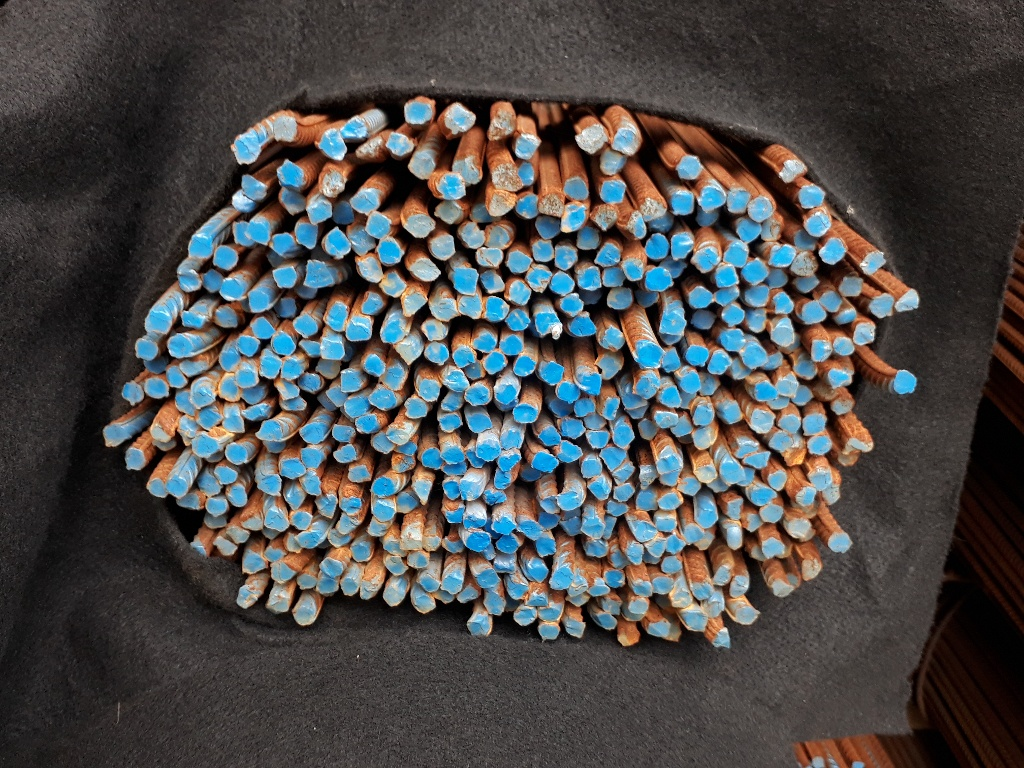dipstick: (304, 260, 333, 288), (319, 131, 346, 161), (576, 126, 606, 153), (396, 336, 423, 365), (319, 167, 345, 197), (232, 136, 260, 163), (446, 105, 474, 132), (405, 214, 435, 239), (277, 160, 304, 186), (619, 211, 645, 238), (326, 229, 351, 257), (190, 433, 218, 458), (562, 203, 586, 232), (771, 318, 795, 347), (280, 188, 306, 214), (819, 238, 845, 264), (454, 267, 479, 294), (404, 101, 432, 125), (490, 111, 514, 139), (437, 174, 466, 197), (351, 190, 381, 212), (381, 271, 406, 297), (409, 153, 435, 178), (357, 136, 384, 160), (597, 352, 621, 379), (351, 227, 374, 255), (324, 303, 347, 331), (435, 202, 463, 225), (410, 259, 439, 281), (377, 239, 402, 264), (614, 130, 639, 155), (869, 293, 894, 318), (367, 213, 393, 237), (431, 236, 457, 260), (591, 204, 617, 228), (380, 320, 407, 343), (431, 298, 458, 321), (466, 411, 494, 433), (567, 314, 595, 336), (368, 389, 397, 410), (242, 175, 266, 200), (359, 256, 383, 281), (460, 223, 484, 248), (454, 159, 479, 183), (727, 188, 751, 213), (646, 267, 671, 291), (748, 196, 772, 221), (638, 343, 663, 367), (751, 409, 775, 434), (212, 247, 238, 270), (534, 312, 560, 335), (495, 165, 521, 188), (642, 196, 665, 222), (700, 187, 726, 210), (464, 386, 491, 408), (487, 192, 514, 214), (422, 320, 450, 341), (425, 341, 449, 365), (607, 286, 631, 310), (806, 212, 830, 236), (246, 222, 271, 245), (307, 201, 332, 224), (516, 135, 541, 158), (554, 246, 577, 271), (677, 155, 700, 180), (197, 409, 223, 431), (536, 620, 562, 642), (646, 233, 668, 259), (671, 234, 693, 260), (558, 419, 585, 440), (273, 116, 296, 140), (220, 279, 244, 302), (168, 334, 192, 357), (602, 152, 626, 175), (601, 180, 625, 203), (578, 266, 601, 290), (725, 243, 748, 267), (743, 261, 767, 284), (792, 252, 815, 276), (861, 252, 885, 275), (895, 288, 918, 312), (188, 236, 213, 258), (507, 250, 532, 272), (506, 309, 531, 331), (536, 217, 561, 239), (799, 186, 824, 208), (801, 301, 826, 323), (742, 346, 767, 368), (342, 118, 368, 139), (145, 313, 171, 334), (538, 194, 564, 215), (780, 162, 806, 183), (555, 443, 582, 463), (481, 271, 504, 294), (458, 295, 481, 318), (541, 362, 564, 385), (624, 598, 647, 621), (597, 244, 620, 267), (635, 377, 658, 400), (177, 271, 201, 293), (301, 422, 325, 444), (242, 551, 266, 573), (486, 226, 510, 248), (564, 177, 588, 199), (692, 249, 716, 271), (724, 244, 748, 266), (771, 245, 795, 267), (745, 285, 769, 307), (894, 369, 916, 393), (214, 308, 239, 329), (272, 267, 297, 288), (296, 223, 317, 248), (403, 398, 428, 419), (475, 248, 500, 269), (602, 567, 627, 588), (529, 266, 550, 291), (344, 398, 370, 418), (279, 458, 305, 478), (271, 564, 297, 584), (437, 413, 464, 432), (135, 338, 158, 360), (259, 474, 282, 496), (446, 369, 469, 391), (508, 281, 531, 303), (532, 240, 555, 262), (576, 227, 598, 250), (810, 340, 833, 362), (145, 377, 169, 398), (247, 290, 268, 314), (271, 334, 295, 355), (224, 444, 248, 465), (403, 294, 427, 315), (484, 297, 505, 321), (551, 273, 575, 294), (102, 425, 127, 445), (660, 313, 685, 333), (387, 134, 413, 153), (492, 470, 518, 489), (656, 455, 683, 473), (252, 317, 274, 339), (191, 385, 213, 407), (550, 568, 572, 590), (602, 328, 624, 350), (516, 195, 538, 217), (294, 315, 317, 336), (341, 369, 362, 392), (228, 484, 249, 507), (372, 477, 395, 498), (672, 191, 693, 214), (738, 221, 761, 242), (720, 329, 743, 350), (854, 323, 875, 346), (686, 345, 709, 366), (660, 386, 681, 409), (613, 425, 634, 448), (603, 448, 626, 469), (360, 294, 384, 314), (750, 488, 778, 505), (334, 199, 353, 224), (392, 454, 417, 473), (475, 442, 500, 461), (555, 381, 580, 400), (319, 341, 345, 359), (466, 618, 492, 636), (494, 384, 520, 402), (355, 416, 384, 432), (198, 474, 219, 496), (284, 487, 305, 509), (351, 542, 372, 564), (396, 493, 418, 514), (485, 352, 506, 374), (588, 476, 609, 498), (581, 518, 603, 539), (560, 294, 582, 315), (690, 287, 712, 308), (722, 462, 743, 484), (808, 467, 829, 489), (272, 235, 295, 255), (274, 298, 297, 318), (617, 626, 640, 646), (715, 266, 738, 286), (746, 309, 766, 332), (384, 557, 408, 576), (472, 333, 496, 352), (514, 405, 538, 424), (586, 540, 610, 559), (650, 213, 674, 232), (803, 414, 827, 433), (828, 533, 852, 552), (346, 322, 371, 340), (332, 424, 357, 442), (714, 287, 739, 305), (845, 436, 873, 452), (336, 516, 362, 533), (237, 335, 258, 356), (178, 416, 199, 437), (316, 496, 337, 517), (237, 587, 258, 608), (384, 585, 405, 606), (622, 259, 643, 280), (202, 271, 222, 293), (122, 381, 144, 401), (146, 478, 168, 498), (320, 558, 342, 578), (721, 305, 743, 325), (635, 491, 657, 511), (242, 386, 265, 405), (258, 420, 281, 439), (268, 594, 291, 613), (374, 501, 397, 520), (463, 507, 486, 526), (691, 310, 714, 329), (754, 383, 777, 402), (634, 522, 657, 541), (233, 221, 251, 245), (175, 391, 193, 415), (275, 381, 299, 399), (265, 512, 289, 530), (518, 521, 542, 539), (793, 276, 820, 292), (663, 348, 681, 372), (464, 531, 489, 548), (496, 536, 521, 553), (167, 476, 187, 497), (507, 580, 528, 600), (581, 374, 602, 394), (537, 538, 558, 558), (723, 401, 743, 422), (693, 405, 714, 425), (384, 367, 403, 389), (126, 448, 145, 470), (334, 445, 356, 464), (419, 379, 438, 401), (821, 291, 843, 310), (701, 373, 720, 395), (829, 369, 851, 388), (245, 405, 271, 421), (175, 495, 201, 511), (219, 379, 237, 402), (222, 414, 245, 432), (206, 497, 229, 515), (500, 337, 523, 355), (539, 427, 562, 445), (533, 454, 556, 472), (587, 430, 610, 448), (783, 448, 806, 466), (671, 590, 694, 608), (441, 394, 465, 411), (493, 554, 517, 571), (469, 205, 493, 222), (743, 453, 770, 468), (233, 193, 253, 213), (282, 359, 302, 379), (301, 477, 321, 497), (293, 604, 313, 624), (329, 532, 354, 548), (692, 429, 712, 449), (614, 482, 634, 502), (219, 352, 240, 371), (260, 357, 279, 378), (363, 356, 384, 375), (349, 465, 370, 484), (372, 434, 393, 453), (414, 595, 435, 614), (421, 450, 442, 469), (773, 293, 792, 314), (833, 337, 854, 356), (696, 509, 717, 528), (290, 511, 312, 529), (414, 481, 432, 503), (478, 570, 500, 588), (454, 349, 476, 367), (602, 268, 624, 286), (840, 277, 862, 295), (726, 498, 744, 520), (655, 515, 677, 533), (652, 576, 674, 594), (318, 362, 341, 379), (302, 449, 325, 466), (493, 519, 516, 536), (552, 400, 575, 417), (635, 290, 658, 307), (795, 362, 818, 379), (735, 440, 758, 457), (808, 437, 831, 454), (760, 505, 783, 522), (653, 411, 677, 427), (659, 493, 683, 509), (486, 595, 506, 614), (575, 398, 595, 417), (529, 562, 548, 582), (561, 517, 581, 536), (761, 221, 780, 241), (169, 367, 187, 388), (400, 532, 421, 550), (581, 459, 602, 477), (779, 415, 800, 433), (483, 490, 508, 505), (537, 606, 562, 621), (300, 373, 322, 390), (214, 538, 236, 555), (440, 576, 462, 593), (386, 428, 408, 445), (464, 362, 486, 379), (499, 453, 521, 470), (557, 492, 579, 509), (795, 233, 817, 250), (770, 433, 792, 450), (735, 607, 757, 624), (181, 311, 204, 327), (696, 211, 719, 227), (441, 462, 467, 476), (814, 386, 840, 400), (420, 574, 439, 593), (459, 481, 478, 500), (516, 607, 535, 626), (501, 431, 520, 450), (681, 373, 700, 392), (742, 514, 761, 533), (180, 360, 204, 375), (235, 370, 255, 388), (262, 439, 286, 454), (243, 513, 263, 531), (566, 619, 586, 637), (568, 577, 586, 597), (589, 579, 609, 597), (794, 386, 812, 406), (638, 422, 658, 440), (823, 484, 841, 504), (340, 498, 361, 515), (298, 530, 319, 547), (596, 612, 617, 629), (731, 359, 748, 380), (661, 557, 682, 574), (216, 467, 238, 483), (695, 466, 717, 482), (681, 527, 703, 543), (685, 612, 707, 628), (731, 576, 747, 598), (145, 359, 168, 374), (406, 553, 429, 568), (442, 447, 465, 462), (767, 395, 790, 410), (445, 505, 463, 524), (694, 582, 713, 600), (801, 560, 819, 579), (341, 576, 358, 596), (466, 450, 486, 467), (514, 358, 534, 375), (777, 379, 797, 396), (725, 528, 742, 548), (762, 540, 782, 557), (833, 398, 854, 414), (671, 419, 692, 435), (628, 542, 643, 564), (622, 395, 647, 408), (610, 551, 628, 569), (667, 536, 685, 554), (443, 481, 460, 500), (603, 596, 622, 613), (633, 580, 652, 597), (614, 465, 633, 482), (770, 472, 787, 491), (712, 629, 729, 648), (787, 520, 806, 537), (300, 341, 320, 357), (318, 577, 338, 593), (539, 513, 559, 529), (648, 620, 668, 636), (715, 566, 731, 586), (519, 467, 545, 479), (520, 164, 534, 186), (581, 289, 603, 303), (834, 310, 856, 324), (153, 424, 170, 442), (329, 389, 346, 407), (540, 495, 557, 513), (769, 270, 787, 287), (229, 527, 248, 543), (297, 573, 316, 589), (360, 580, 376, 599), (422, 535, 441, 551), (767, 351, 783, 370), (647, 538, 666, 554), (773, 581, 792, 597), (264, 546, 284, 561), (443, 538, 463, 553), (524, 595, 549, 607), (680, 478, 700, 493), (368, 521, 391, 534), (585, 415, 608, 428), (458, 587, 479, 601), (605, 397, 619, 418), (640, 467, 657, 484), (670, 260, 686, 278), (397, 443, 418, 456), (206, 517, 228, 529), (707, 601, 723, 617), (838, 455, 859, 467), (281, 399, 306, 409), (798, 487, 814, 502), (286, 535, 300, 552), (569, 596, 590, 607), (608, 502, 627, 514), (744, 468, 756, 486), (384, 540, 400, 553), (700, 532, 712, 549), (628, 408, 646, 419), (661, 335, 682, 344), (435, 592, 452, 603), (660, 474, 677, 485), (752, 546, 765, 560), (670, 625, 680, 641), (644, 556, 661, 565)
